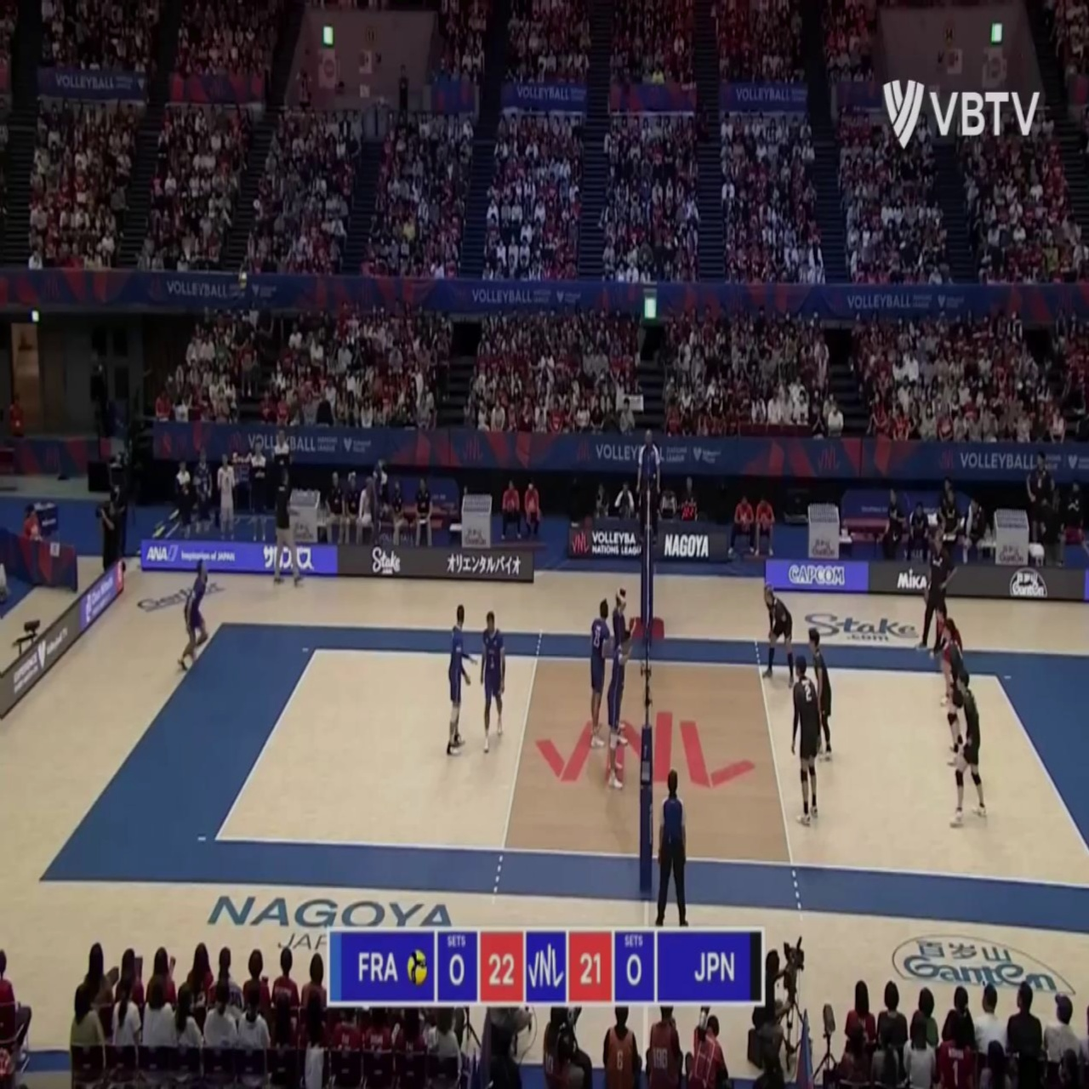ball: (238, 271, 247, 289)
